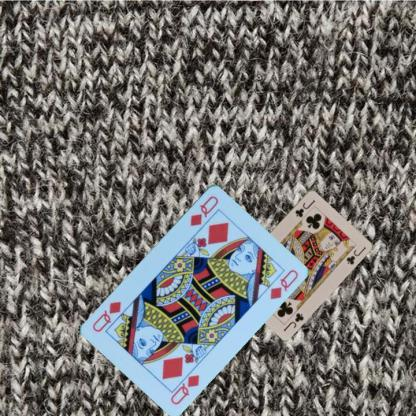Jc: (292, 196, 317, 218), (281, 310, 305, 332)
Qd: (167, 364, 200, 406), (187, 193, 220, 227)
